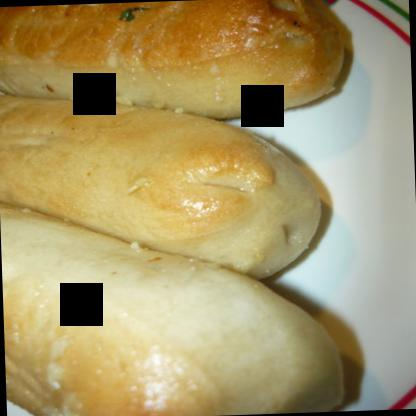toast bread: (0, 180, 351, 415), (0, 88, 328, 293), (0, 0, 346, 138)
